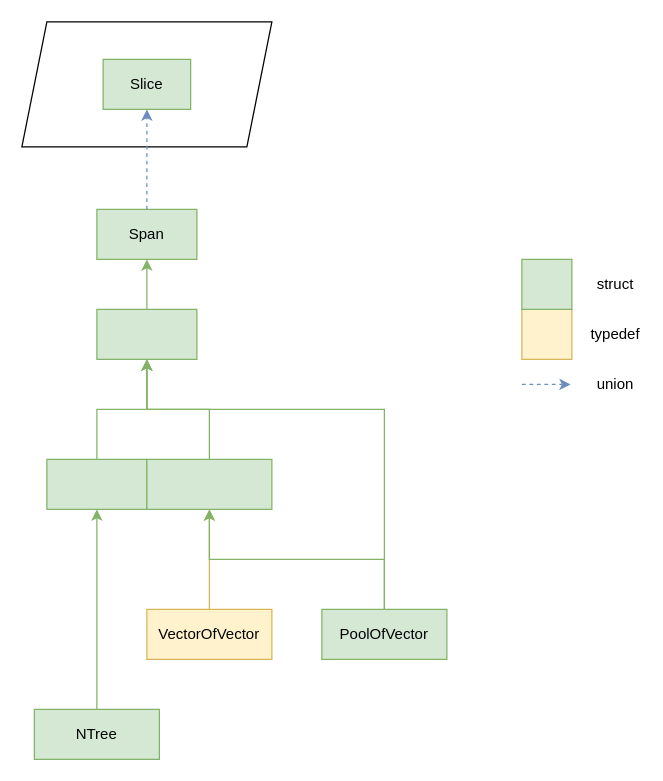
The diagram is 663 pixels wide and 781 high, and some of its shapes have lost their labels. Here are the shapes that lost their labels. From the top down, the centre of each, then its label:
(x=146, y=333): Vector
(x=96, y=483): Pool
(x=209, y=483): VaryingVector
